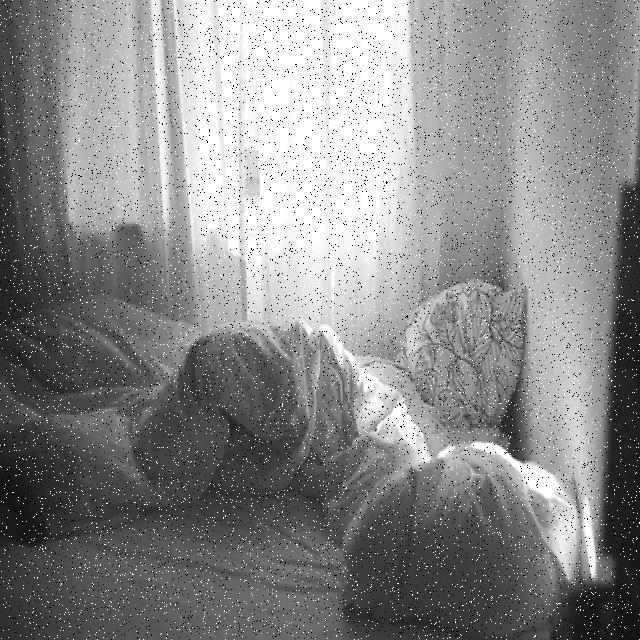bed: (0, 241, 558, 640)
